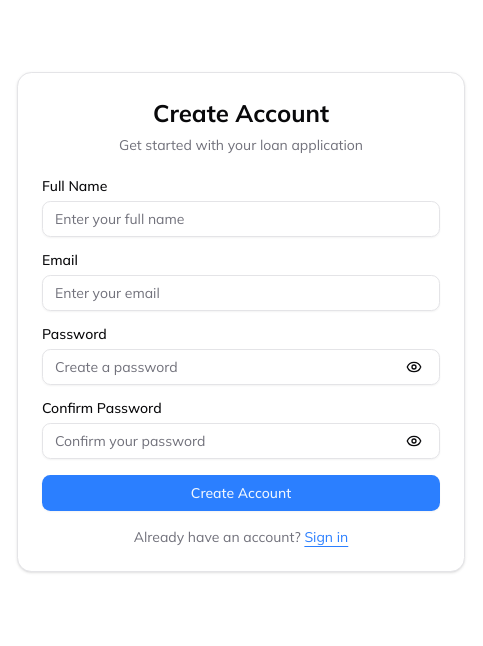
Test case: RegisterPage › validates minimum password length
Type "short" into the password field labelled "Password".
click(241, 367); type("short")  # box [42,349,440,385]
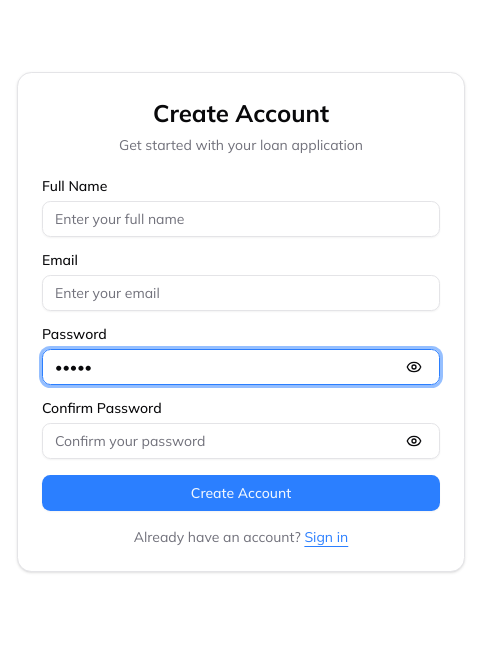
Click the button "Create Account".
click(241, 493)  # box [42,475,440,511]
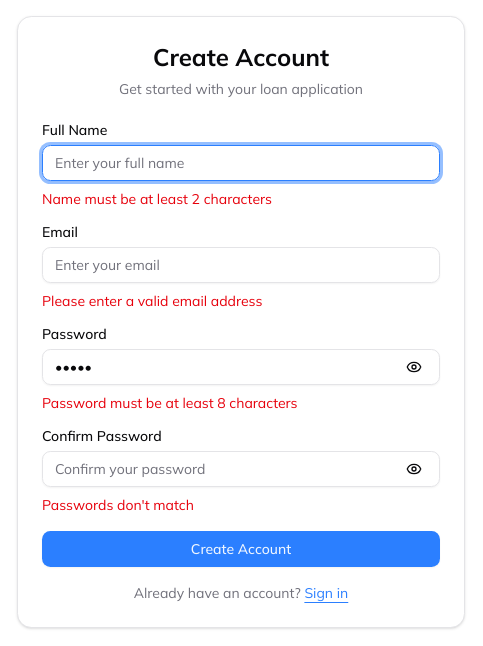
Now the text "Password must be at least 8 characters" is shown, box [42,394,298,412]
